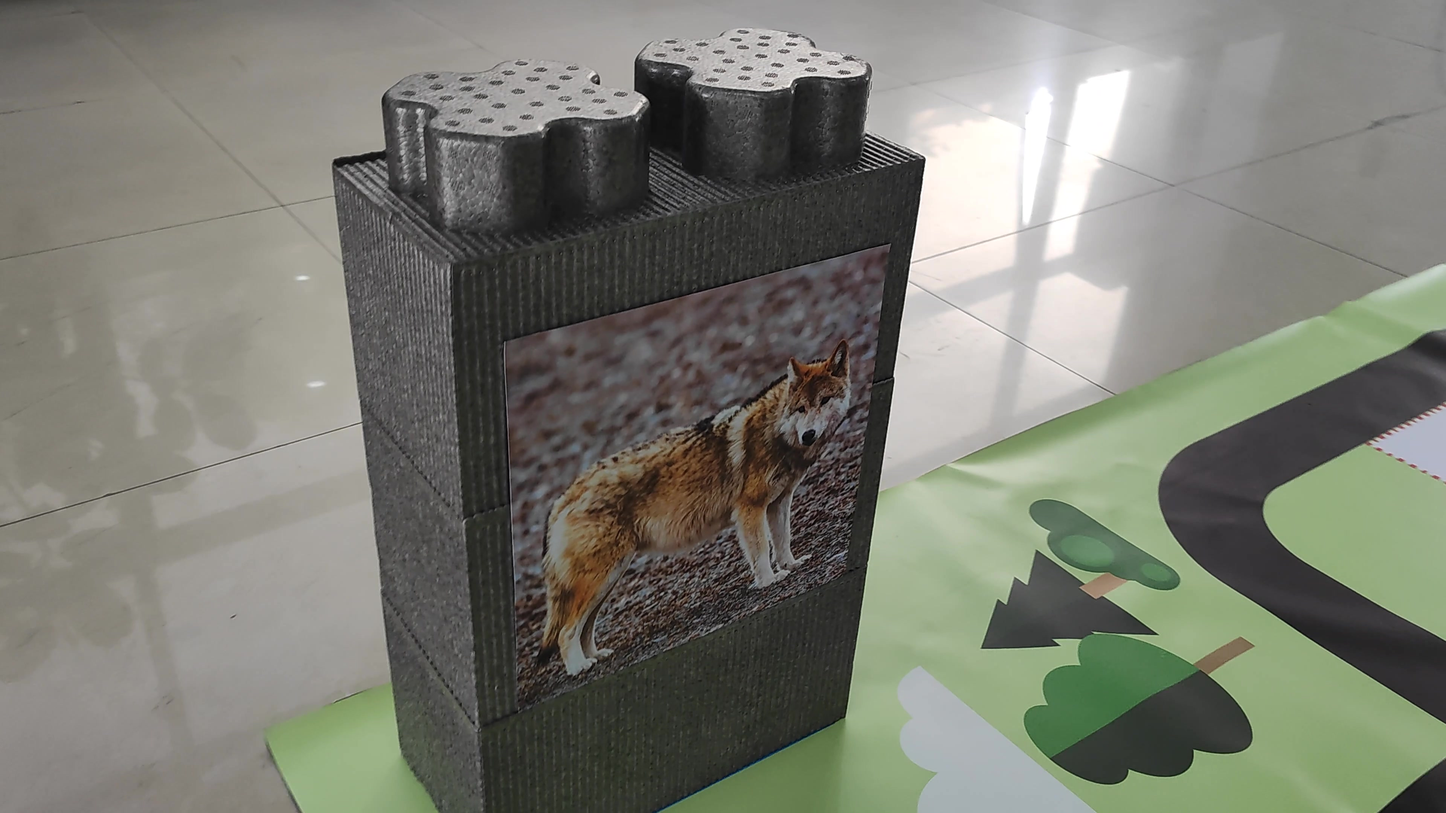wolf: (512, 324, 855, 692)
